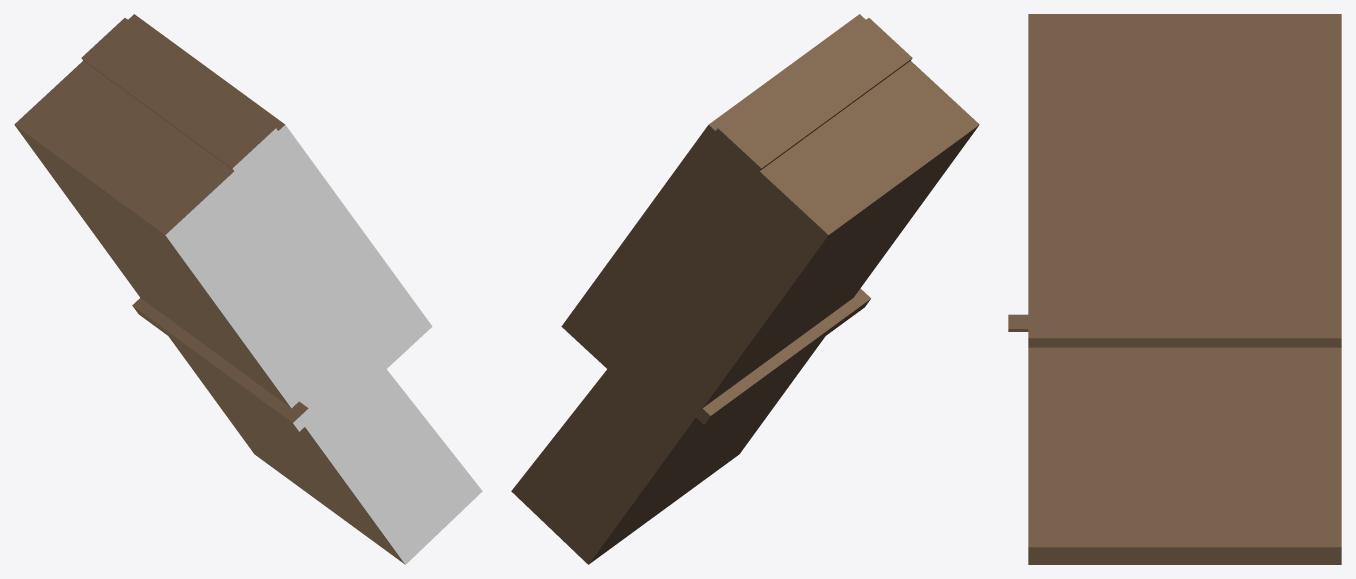
The picture shows the model from 3 angles, left to right: view 1: azimuth 30°, elevation 25°; view 2: azimuth 150°, elevation 25°; view 3: azimuth 270°, elevation 25°; orthographic projection. The views are drawn at different scales.
Visible parts, largest first — view 1: City_1202514; view 2: City_1202514; view 3: City_1202514.
Boxes of the visible parts, box(x1,y1,x2,y2) form: City_1202514: box(14, 14, 482, 564); City_1202514: box(511, 14, 979, 564); City_1202514: box(1008, 14, 1341, 564).
Size of the model in its own units: 1652 by 2336 by 1449.
